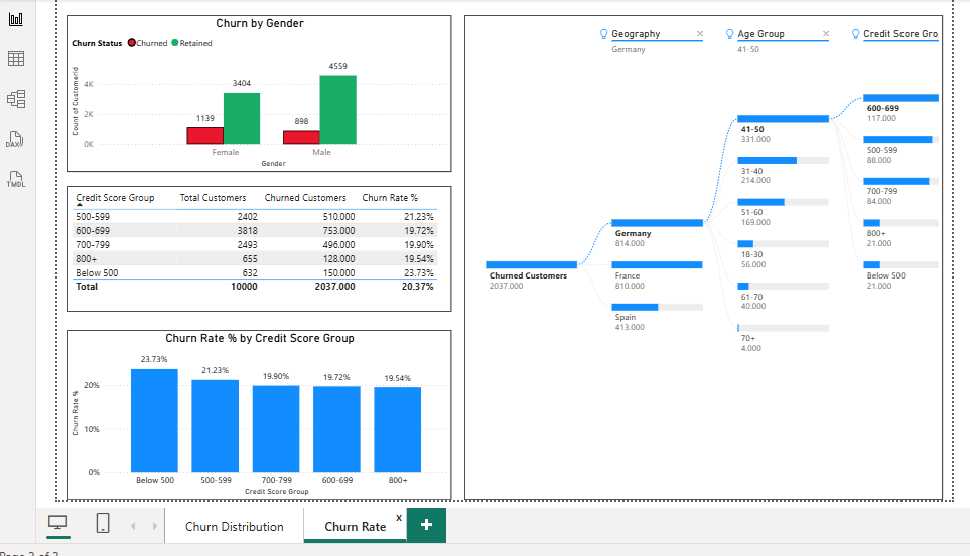

What the dashboard file says about the page in this screenshot:
{"tool":"powerbi","page":{"name":"Churn Rate ","canvas":[1280,720],"ordinal":1},"visuals":[{"type":"clusteredColumnChart","title":"Churn by Gender","fields":{"Category":["Churn_Modelling.Gender"],"Y":["CountNonNull(Churn_Modelling.CustomerId)"],"Series":["Churn_Modelling.Churn Status"]},"box":[14.4,23,548.6,226.1],"z":0},{"type":"clusteredColumnChart","fields":{"Category":["Churn_Modelling.Credit Score Group"],"Y":["Churn_Modelling.Churn Rate %"]},"box":[14.4,475.2,548.6,244.8],"z":1000},{"type":"tableEx","fields":{"Values":["Churn_Modelling.Credit Score Group","Churn_Modelling.Total Customers","Churn_Modelling.Churned Customers","Churn_Modelling.Churn Rate %"]},"box":[14.4,269.3,548.6,180],"z":2000},{"type":"decompositionTreeVisual","fields":{"Analyze":["Churn_Modelling.Churned Customers"],"ExplainBy":["Churn_Modelling.Geography","Churn_Modelling.Age Group","Churn_Modelling.Credit Score Group"]},"box":[581.8,23,684,697],"z":3000}]}

Visuals, with their boxes on the page's 1280x720 design canvas (x1, y1, x2, y2). These are canvas units, not pixel positions in the 970x556 screenshot, which may show the page scaled, cropped or inside an application window:
"Churn by Gender" clusteredColumnChart: BBox(14, 23, 563, 249)
clusteredColumnChart - Churn_Modelling.Credit Score Group x Churn_Modelling.Churn Rate %: BBox(14, 475, 563, 720)
tableEx - Churn_Modelling.Credit Score Group x Churn_Modelling.Total Customers: BBox(14, 269, 563, 449)
decompositionTreeVisual - Churn_Modelling.Churned Customers x Churn_Modelling.Geography: BBox(582, 23, 1266, 720)
